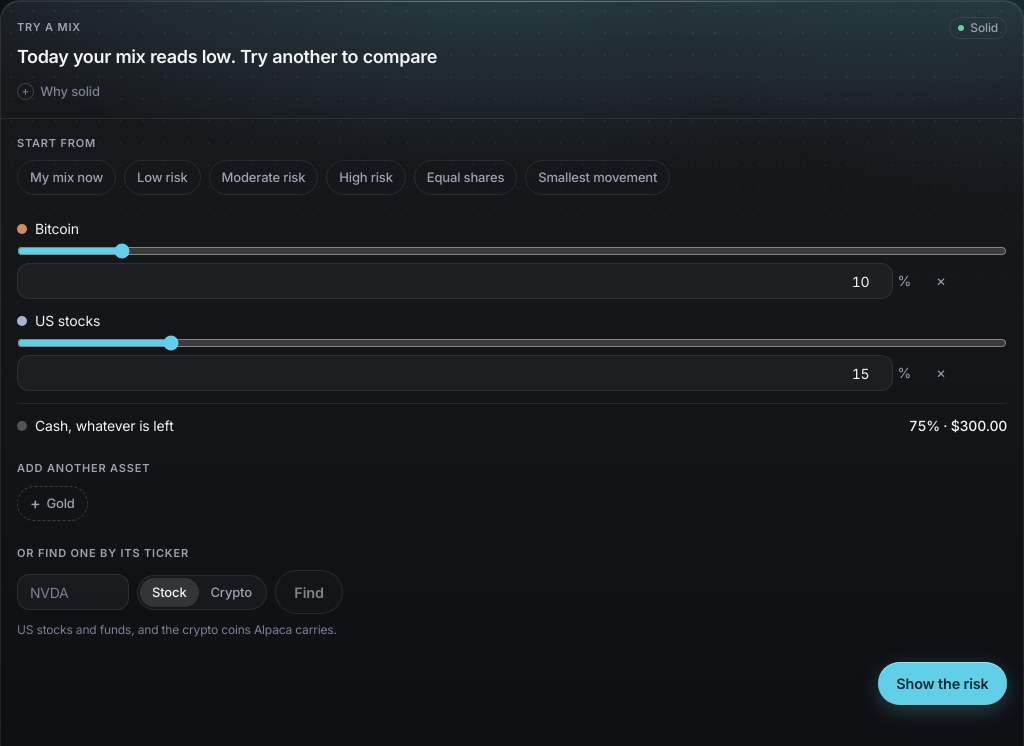
Test: LevelsPanel › lets an asset not held yet be added, and one be removed
Click the button with aria-label "Add Gold".
click(52, 503)  # box [17, 486, 88, 520]
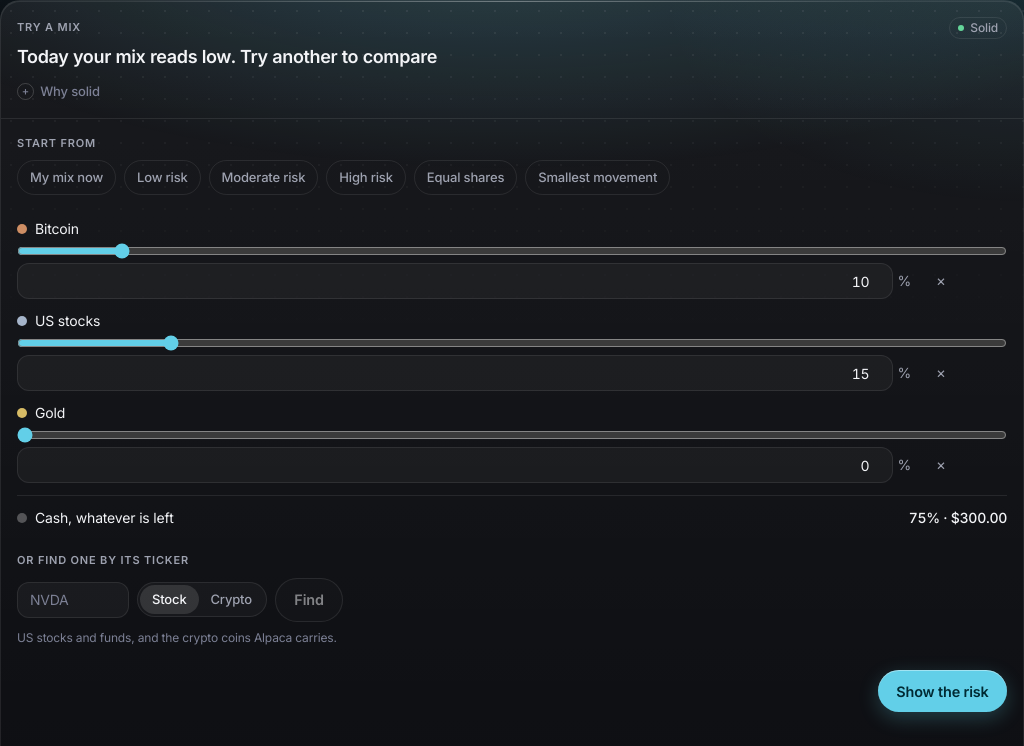
Check: the number field named "Gold share, percent" holds "0", box [17, 447, 893, 483]
Click the button named "Remove Bitcoin".
click(941, 281)  # box [923, 263, 959, 299]
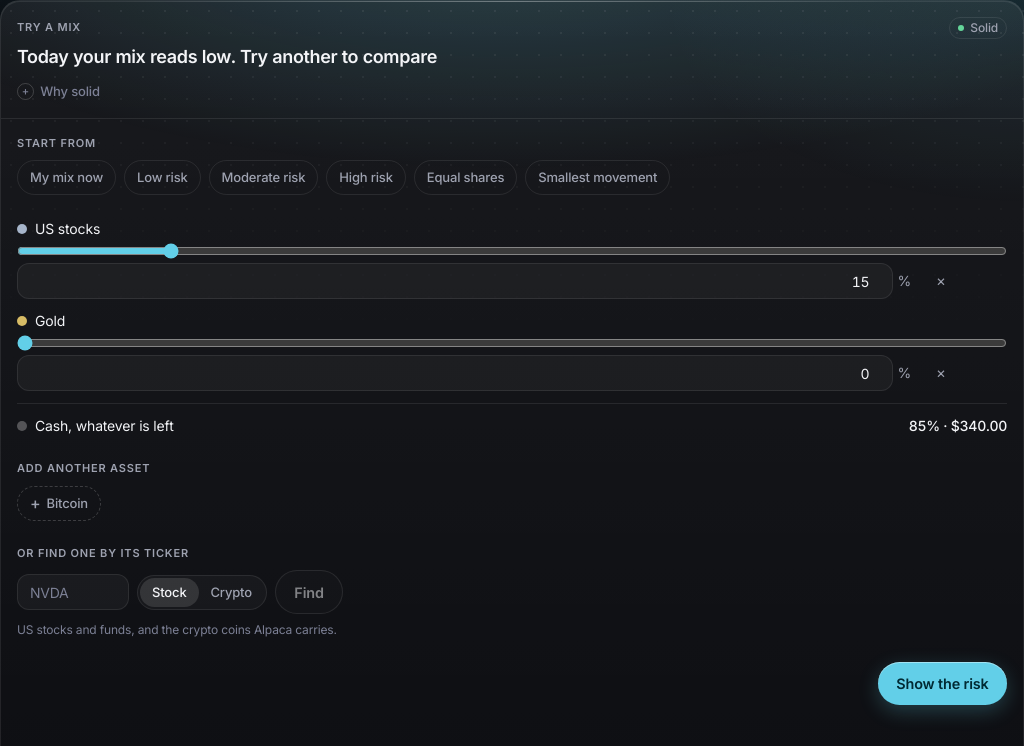
Check: the text "85% · $340.00" is shown, box [909, 416, 1007, 436]
Check: the button with aria-label "Add Bitcoin" is shown, box [17, 486, 101, 520]
